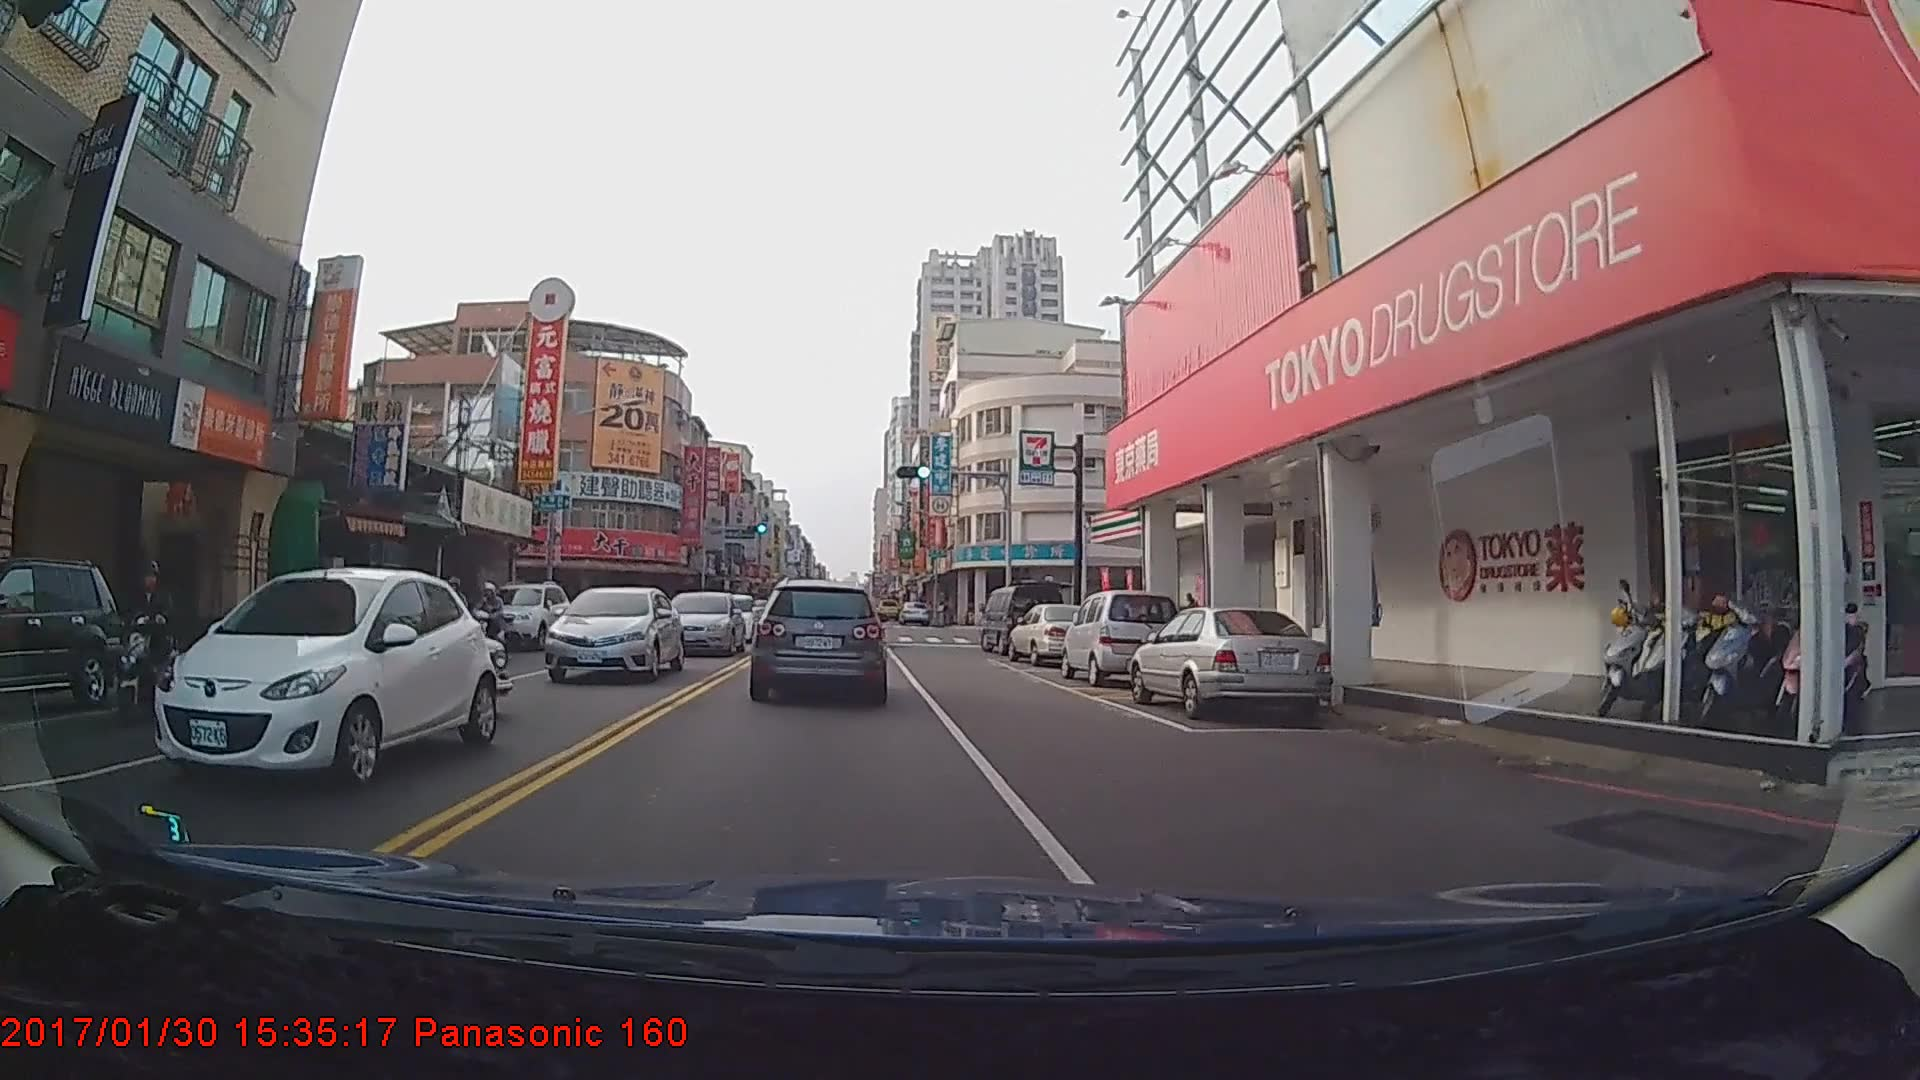rider: (114, 560, 189, 716)
vehicle: (154, 564, 499, 792), (1131, 600, 1332, 723), (754, 580, 885, 702), (542, 584, 679, 682), (1058, 587, 1181, 683), (979, 581, 1065, 657), (1005, 602, 1102, 668), (475, 580, 570, 648), (662, 588, 745, 657), (896, 596, 929, 621)
